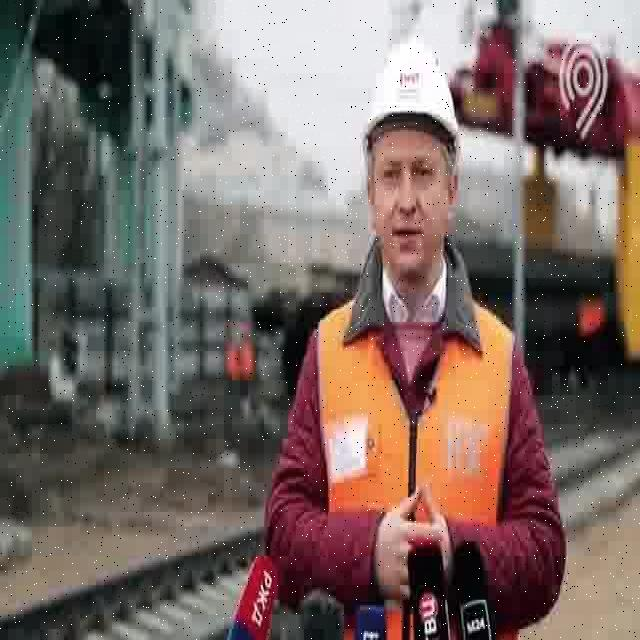Hard_hat: (362, 43, 464, 143)
Person: (269, 61, 562, 637)
Vest: (300, 307, 520, 533)
